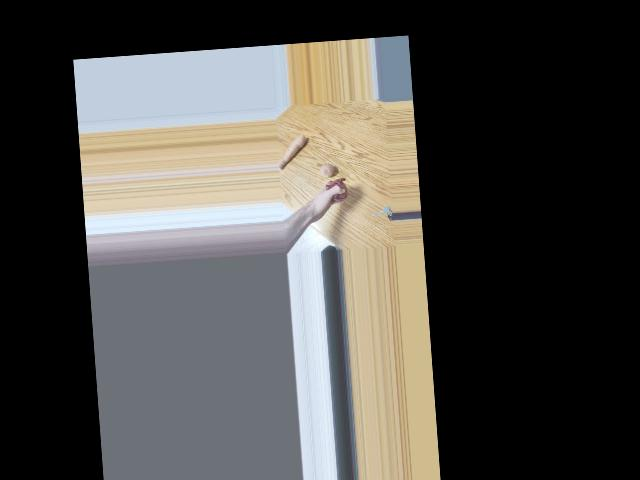onion: (320, 161, 335, 180)
